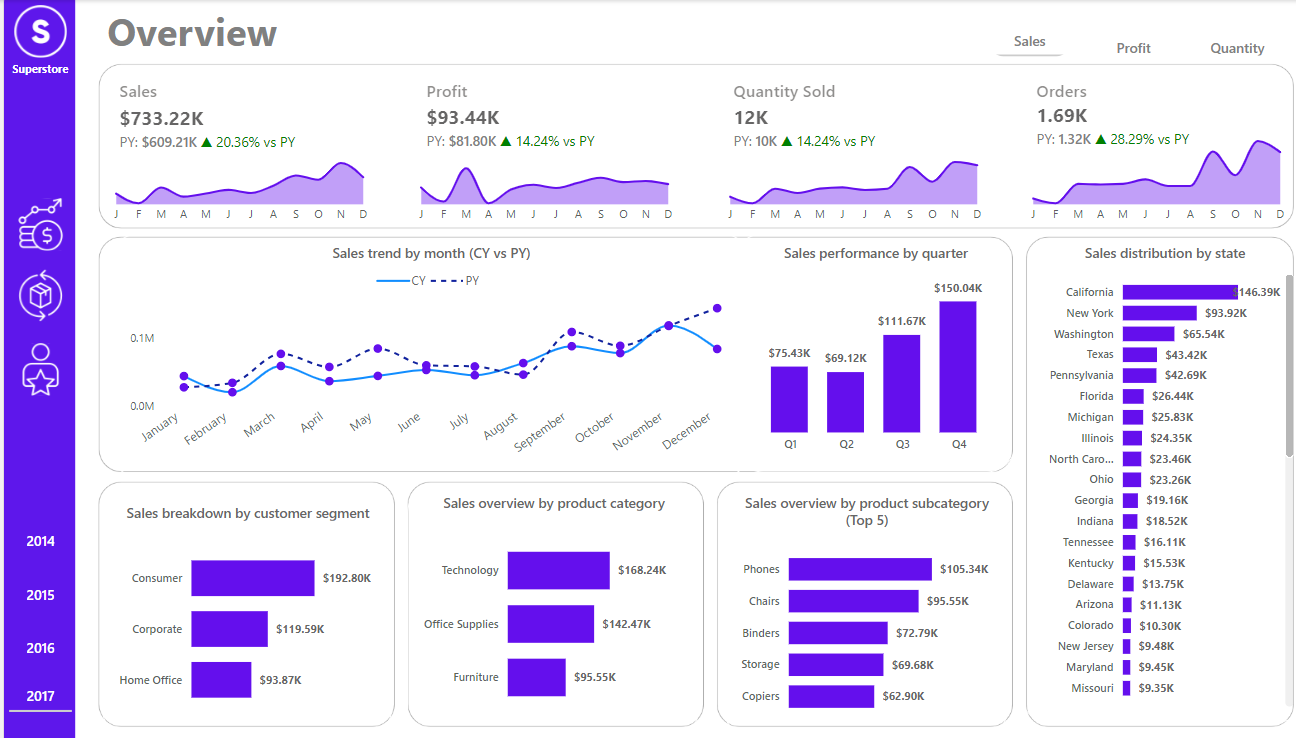

This screenshot's page, from the dashboard's own definition file:
{"tool":"powerbi","page":{"name":"Sales Analysis Overview","canvas":[1280,720],"ordinal":0},"visuals":[{"type":"clusteredBarChart","fields":{"Y":["All measures.Total Profit"],"Category":["Products.Sub-Category"]},"box":[700.3,469.8,276.2,250],"z":0},{"type":"clusteredBarChart","fields":{"Y":["All measures.Total Profit"],"Category":["Products.Category"]},"box":[392,469.8,284,250],"z":1000},{"type":"clusteredBarChart","fields":{"Y":["All measures.Total Profit"],"Category":["Customers.Segment"]},"box":[95.3,479.5,282.1,240.2],"z":2000},{"type":"columnChart","fields":{"Y":["All measures.Total Profit"],"Category":["Calendar.Quarter"]},"box":[709,227,276,233],"z":3000},{"type":"cardVisual","fields":{"Data":["All measures.Total Sales"]},"box":[94.9,60,267.8,140.9],"z":4000},{"type":"stackedAreaChart","title":"Sales by month (CY vs PY)","fields":{"Y":["Sum(Sales.Sales)"],"Category":["Calendar.MonthDisplay"]},"box":[94.9,111.9,267.8,114.9],"z":5000},{"type":"stackedAreaChart","title":"Sales by month (CY vs PY)","fields":{"Y":["All measures.Total Profit"],"Category":["Calendar.MonthDisplay"]},"box":[391.7,111.9,267.8,114.9],"z":6000},{"type":"stackedAreaChart","title":"Sales by month (CY vs PY)","fields":{"Category":["Calendar.MonthDisplay"],"Y":["All measures.Total Quantity"]},"box":[692.5,111.9,267.8,114.9],"z":7000},{"type":"stackedAreaChart","title":"Sales by month (CY vs PY)","fields":{"Category":["Calendar.MonthDisplay"],"Y":["All measures.Total Orders"]},"box":[987.2,111.9,267.8,114.9],"z":8000},{"type":"cardVisual","fields":{"Data":["All measures.Total Profit"]},"box":[393.7,60,267.8,141.9],"z":9000},{"type":"cardVisual","fields":{"Data":["All measures.Total Quantity"]},"box":[692.5,60,267.8,141.9],"z":10000},{"type":"cardVisual","fields":{"Data":["All measures.Total Orders"]},"box":[987.2,60,267.8,141.9],"z":11000},{"type":"textbox","box":[95.3,0,464.9,60.3],"z":12000},{"type":"clusteredBarChart","fields":{"Y":["All measures.Total Profit"],"Category":["Sales.State"]},"box":[987.2,226.6,282.1,475.6],"z":13000},{"type":"advancedSlicerVisual","fields":{"Values":["Map Selection.Map Selection"]},"box":[952.2,0,293.7,80.7],"z":14000},{"type":"advancedSlicerVisual","fields":{"Values":["Calendar.Year"]},"box":[0,479.5,71,240.2],"z":15000},{"type":"actionButton","box":[0,257.8,71,59.3],"z":16000},{"type":"actionButton","box":[0,329.7,71,59.3],"z":17000},{"type":"actionButton","box":[0,188.7,71,59.3],"z":18000},{"type":"actionButton","box":[0,1,71,59.3],"z":19000},{"type":"textbox","box":[0,51.6,77.8,29.2],"z":20000},{"type":"lineChart","fields":{"Y":["All measures.CY Selection"],"Category":["Calendar.Month"],"Y2":["All measures.PY Selection"]},"box":[102.1,226.6,625.4,238.3],"z":21000}]}

Visuals, with their boxes on the page's 1280x720 design canvas (x1, y1, x2, y2). These are canvas units, not pixel positions in the 1296x738 screenshot, which may show the page scaled, cropped or inside an application window:
clusteredBarChart - All measures.Total Profit x Products.Sub-Category: [700,470,976,720]
clusteredBarChart - All measures.Total Profit x Products.Category: [392,470,676,720]
clusteredBarChart - All measures.Total Profit x Customers.Segment: [95,480,377,720]
columnChart - All measures.Total Profit x Calendar.Quarter: [709,227,985,460]
cardVisual - All measures.Total Sales: [95,60,363,201]
"Sales by month (CY vs PY)" stackedAreaChart: [95,112,363,227]
"Sales by month (CY vs PY)" stackedAreaChart: [392,112,660,227]
"Sales by month (CY vs PY)" stackedAreaChart: [692,112,960,227]
"Sales by month (CY vs PY)" stackedAreaChart: [987,112,1255,227]
cardVisual - All measures.Total Profit: [394,60,662,202]
cardVisual - All measures.Total Quantity: [692,60,960,202]
cardVisual - All measures.Total Orders: [987,60,1255,202]
textbox: [95,0,560,60]
clusteredBarChart - All measures.Total Profit x Sales.State: [987,227,1269,702]
advancedSlicerVisual - Map Selection.Map Selection: [952,0,1246,81]
advancedSlicerVisual - Calendar.Year: [0,480,71,720]
actionButton: [0,258,71,317]
actionButton: [0,330,71,389]
actionButton: [0,189,71,248]
actionButton: [0,1,71,60]
textbox: [0,52,78,81]
lineChart - All measures.CY Selection x Calendar.Month: [102,227,728,465]
